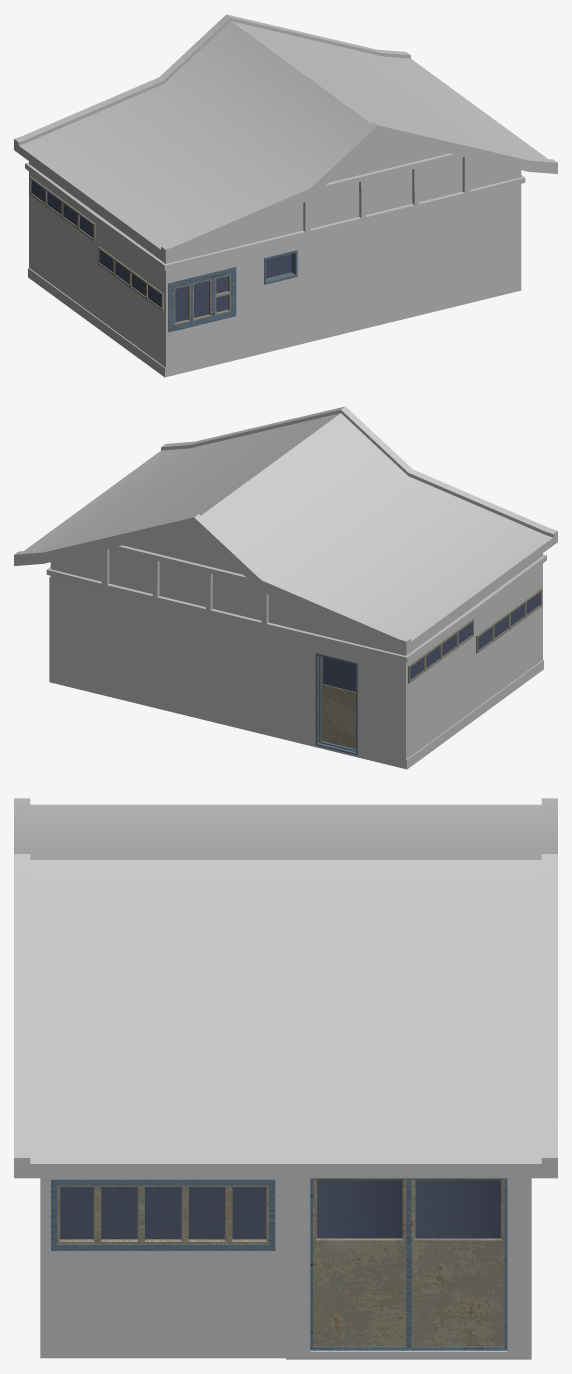
Rendered from House1-1.fbx.
The picture shows the model from 3 angles, top to bottom: view 1: azimuth 30°, elevation 25°; view 2: azimuth 150°, elevation 25°; view 3: azimuth 270°, elevation 25°; orthographic projection. The views are drawn at different scales.
Visible parts, largest first — view 1: House1-1; view 2: House1-1; view 3: House1-1.
Part boxes in pixels (x1,y1,x2,y2): House1-1: [14, 14, 557, 377]; House1-1: [14, 406, 557, 769]; House1-1: [14, 798, 557, 1359].
Bounding box in the file's own units: 662 × 334 × 443.
